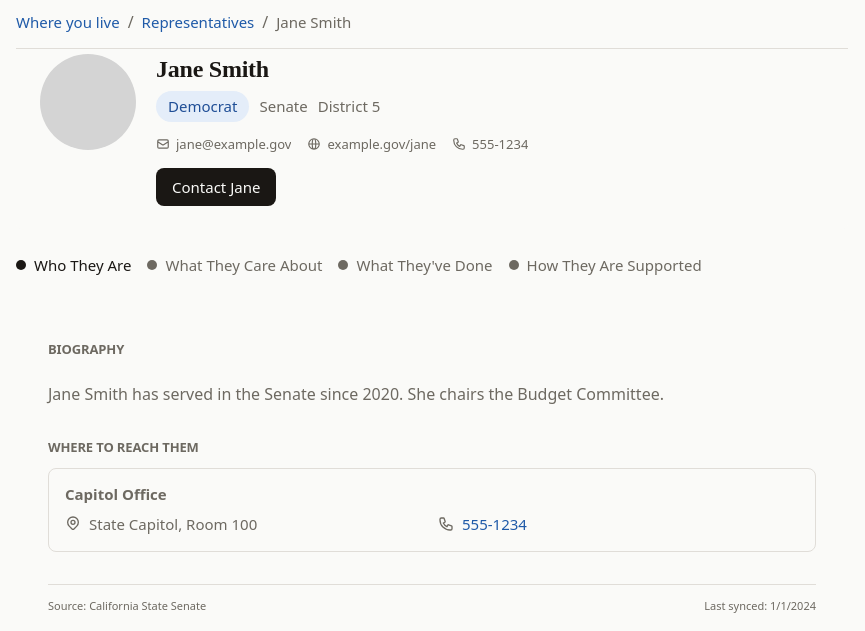
RepresentativeDetailPage › layer navigation › advances to How They Are Supported (layer 4) via CTA
The image size is (865, 631).
Click the button "How They Are Supported".
click(605, 265)  # box [509,254,702,277]
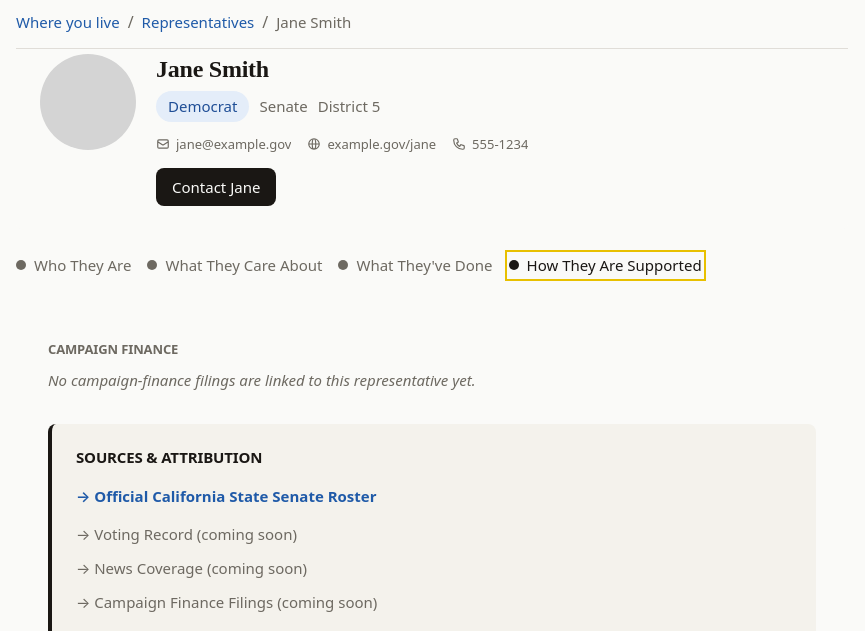
Expected: the heading "Campaign Finance" is shown, [48,340,178,358]
